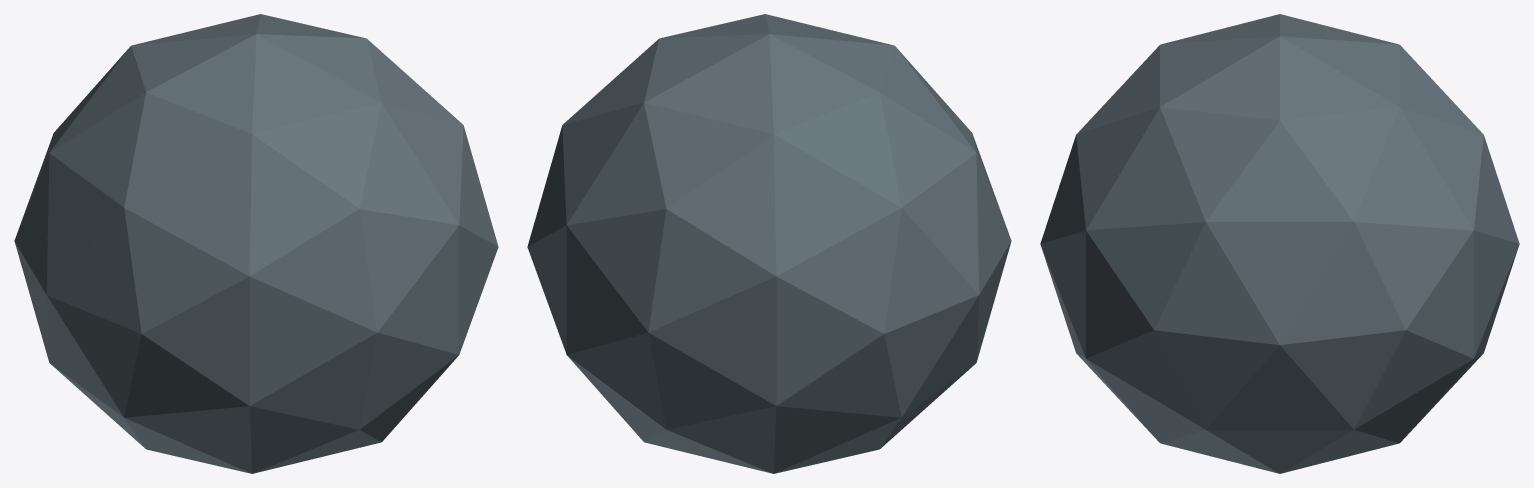
Rendered from Payload.glb.
3 renders of one model, left to right at view 1: azimuth 30°, elevation 25°; view 2: azimuth 150°, elevation 25°; view 3: azimuth 270°, elevation 25°, orthographic.
Visible parts, largest first — view 1: Sculpture; view 2: Sculpture; view 3: Sculpture.
Boxes of the visible parts, x1=… form: Sculpture: x1=14, y1=14, x2=498, y2=473; Sculpture: x1=527, y1=14, x2=1011, y2=473; Sculpture: x1=1040, y1=14, x2=1519, y2=473.
Bounding box in the file's own units: 0.46 × 0.44 × 0.46.
